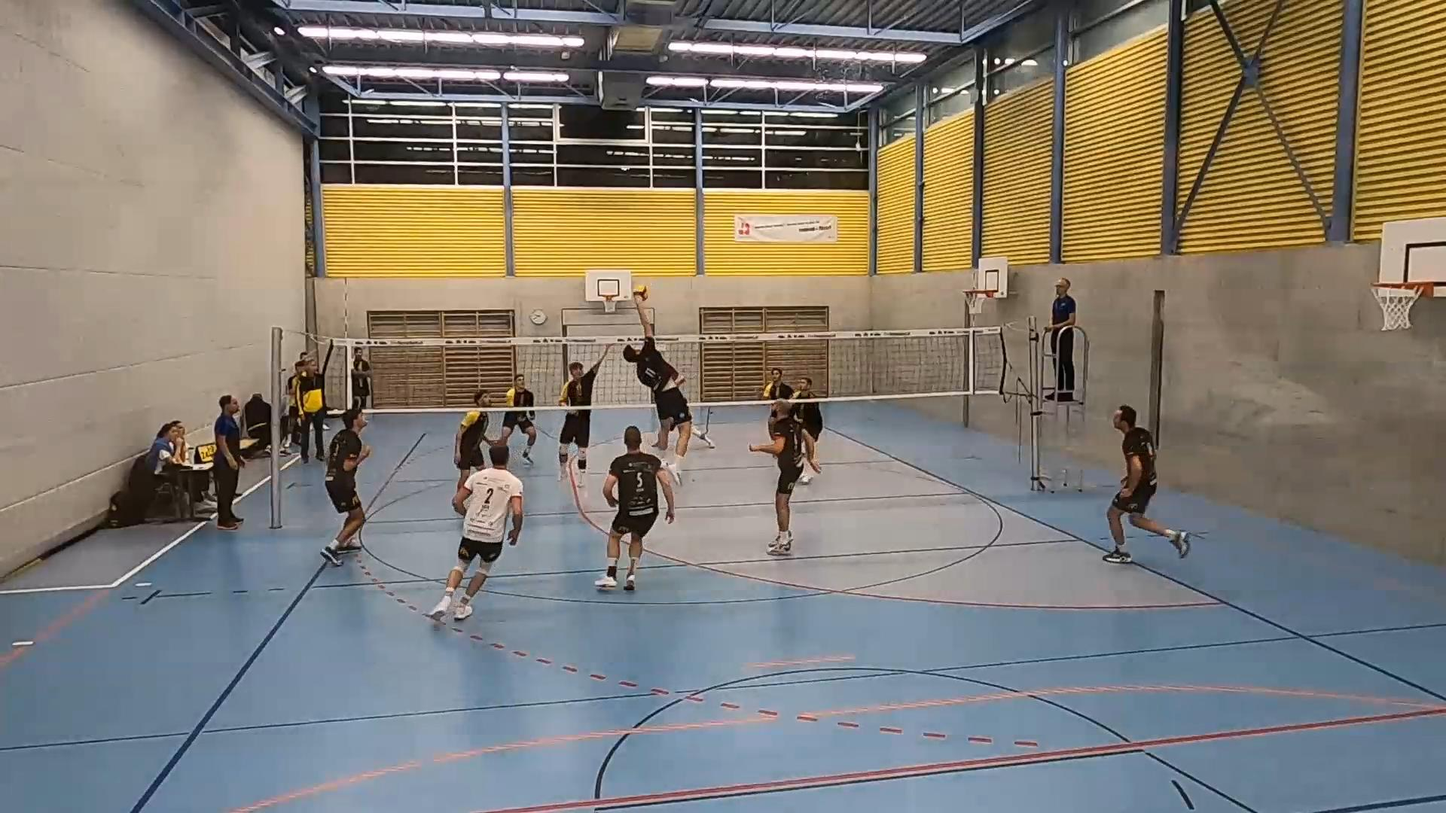Attack: (621, 302, 698, 487)
Player: (427, 446, 522, 620), (1103, 406, 1190, 563), (595, 426, 674, 590), (749, 400, 819, 555), (321, 409, 371, 566), (558, 346, 610, 478), (453, 390, 491, 487), (499, 375, 536, 464), (792, 376, 823, 451), (761, 367, 792, 400), (762, 367, 793, 400)
ball: (632, 284, 650, 296)
